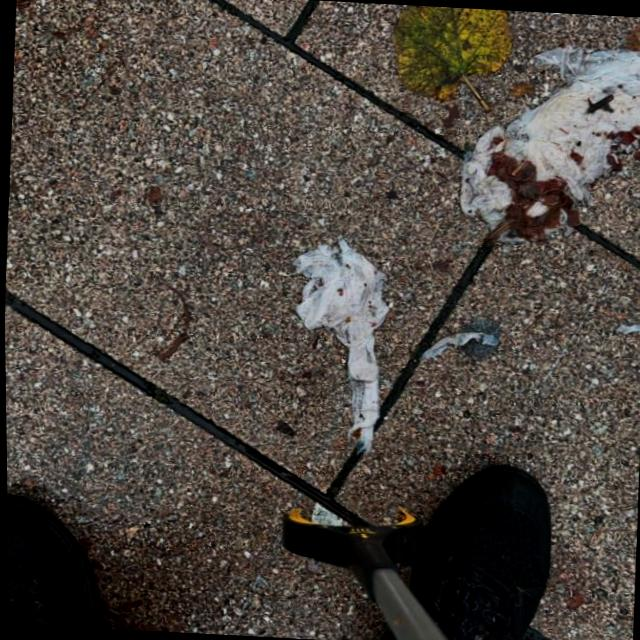Paper: (453, 36, 640, 250), (286, 235, 397, 452)
